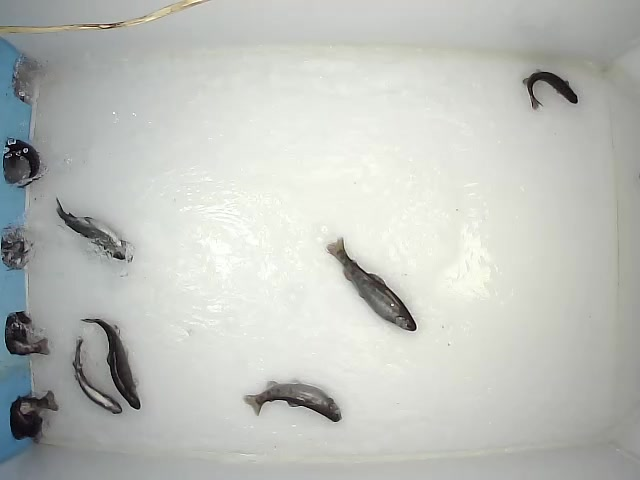fish: (323, 235, 418, 333), (79, 316, 142, 411), (54, 195, 128, 262), (241, 378, 343, 424), (71, 333, 123, 415), (521, 68, 580, 111)
